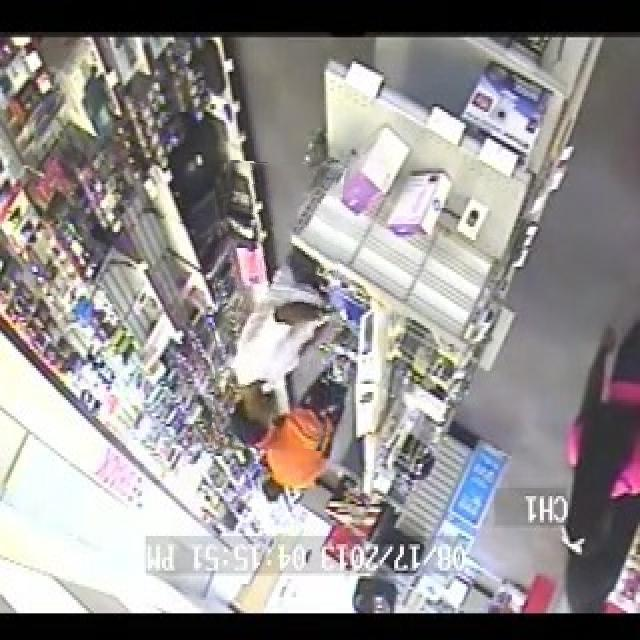Normal: (215, 161, 340, 449)
